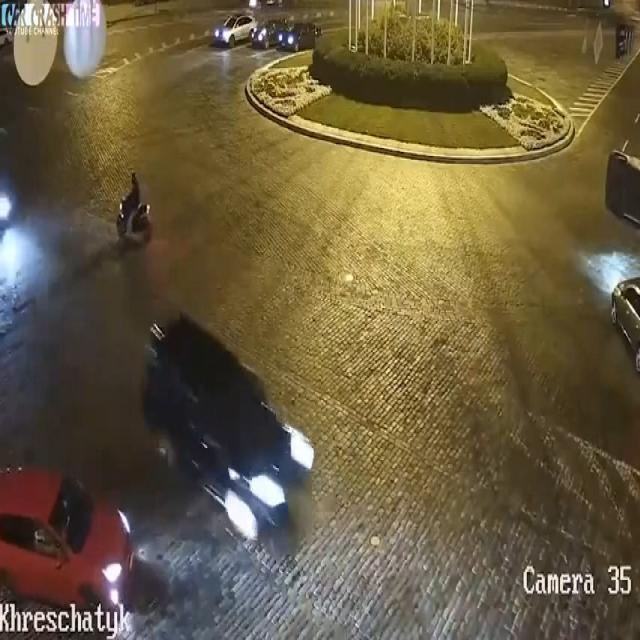Accident: (611, 115, 640, 249)
